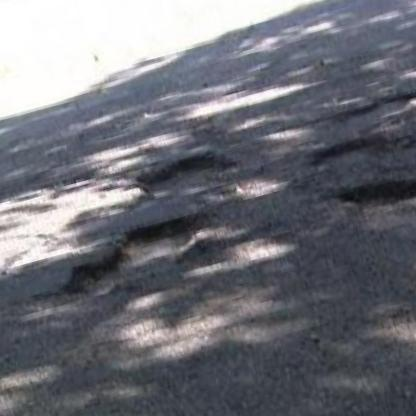pothole: (50, 204, 210, 304), (129, 141, 236, 197), (332, 160, 416, 224)
